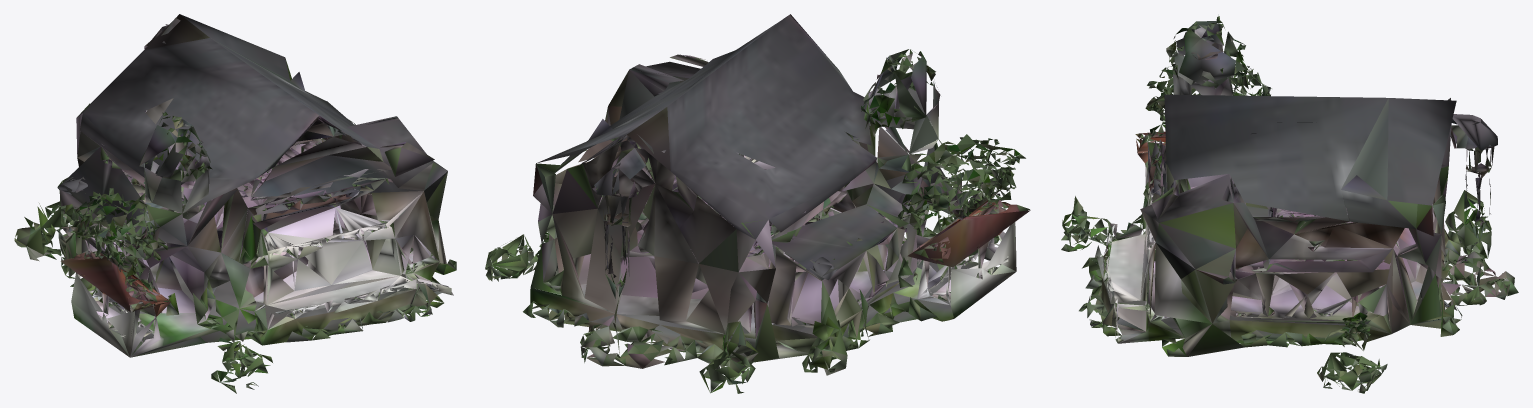
Rendered from house_town.glb.
3 views of the same model, side by side, from view 1: azimuth 30°, elevation 25°; view 2: azimuth 150°, elevation 25°; view 3: azimuth 270°, elevation 25° (orthographic). The views are drawn at different scales.
Parts seen in each view (by area): view 1: house; view 2: house; view 3: house.
Boxes of the visible parts, x1,y1,x2,y2 form: house: (14, 14, 456, 393); house: (485, 14, 1030, 393); house: (1061, 16, 1518, 393).
Size of the model in its own units: 1.87 by 1.03 by 1.87.
Materials: 1 (1 with a texture image).
